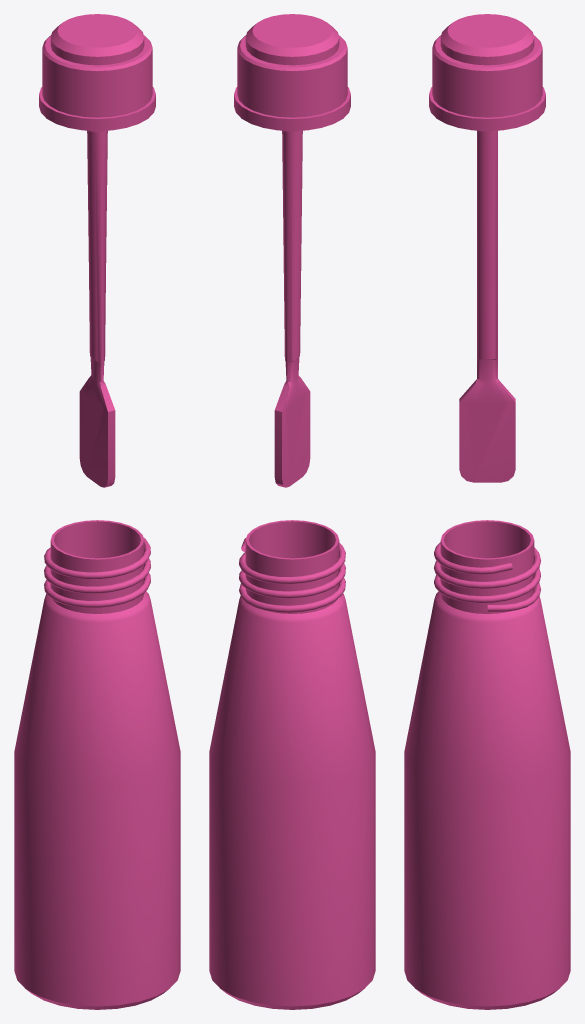
The model's file is SM_Povidon.fbx.
3 renders of one model, left to right at view 1: azimuth 30°, elevation 25°; view 2: azimuth 150°, elevation 25°; view 3: azimuth 270°, elevation 25°, orthographic.
Parts seen in each view (by area): view 1: body, cap; view 2: body, cap; view 3: body, cap.
Part boxes in pixels (x1,y1,x2,y2): body: (14, 520, 180, 1009); cap: (39, 14, 155, 487); body: (209, 520, 375, 1009); cap: (234, 14, 350, 487); body: (404, 520, 570, 1009); cap: (429, 14, 545, 482).
Size of the model in its own units: 0.0324 by 0.204 by 0.0324.
